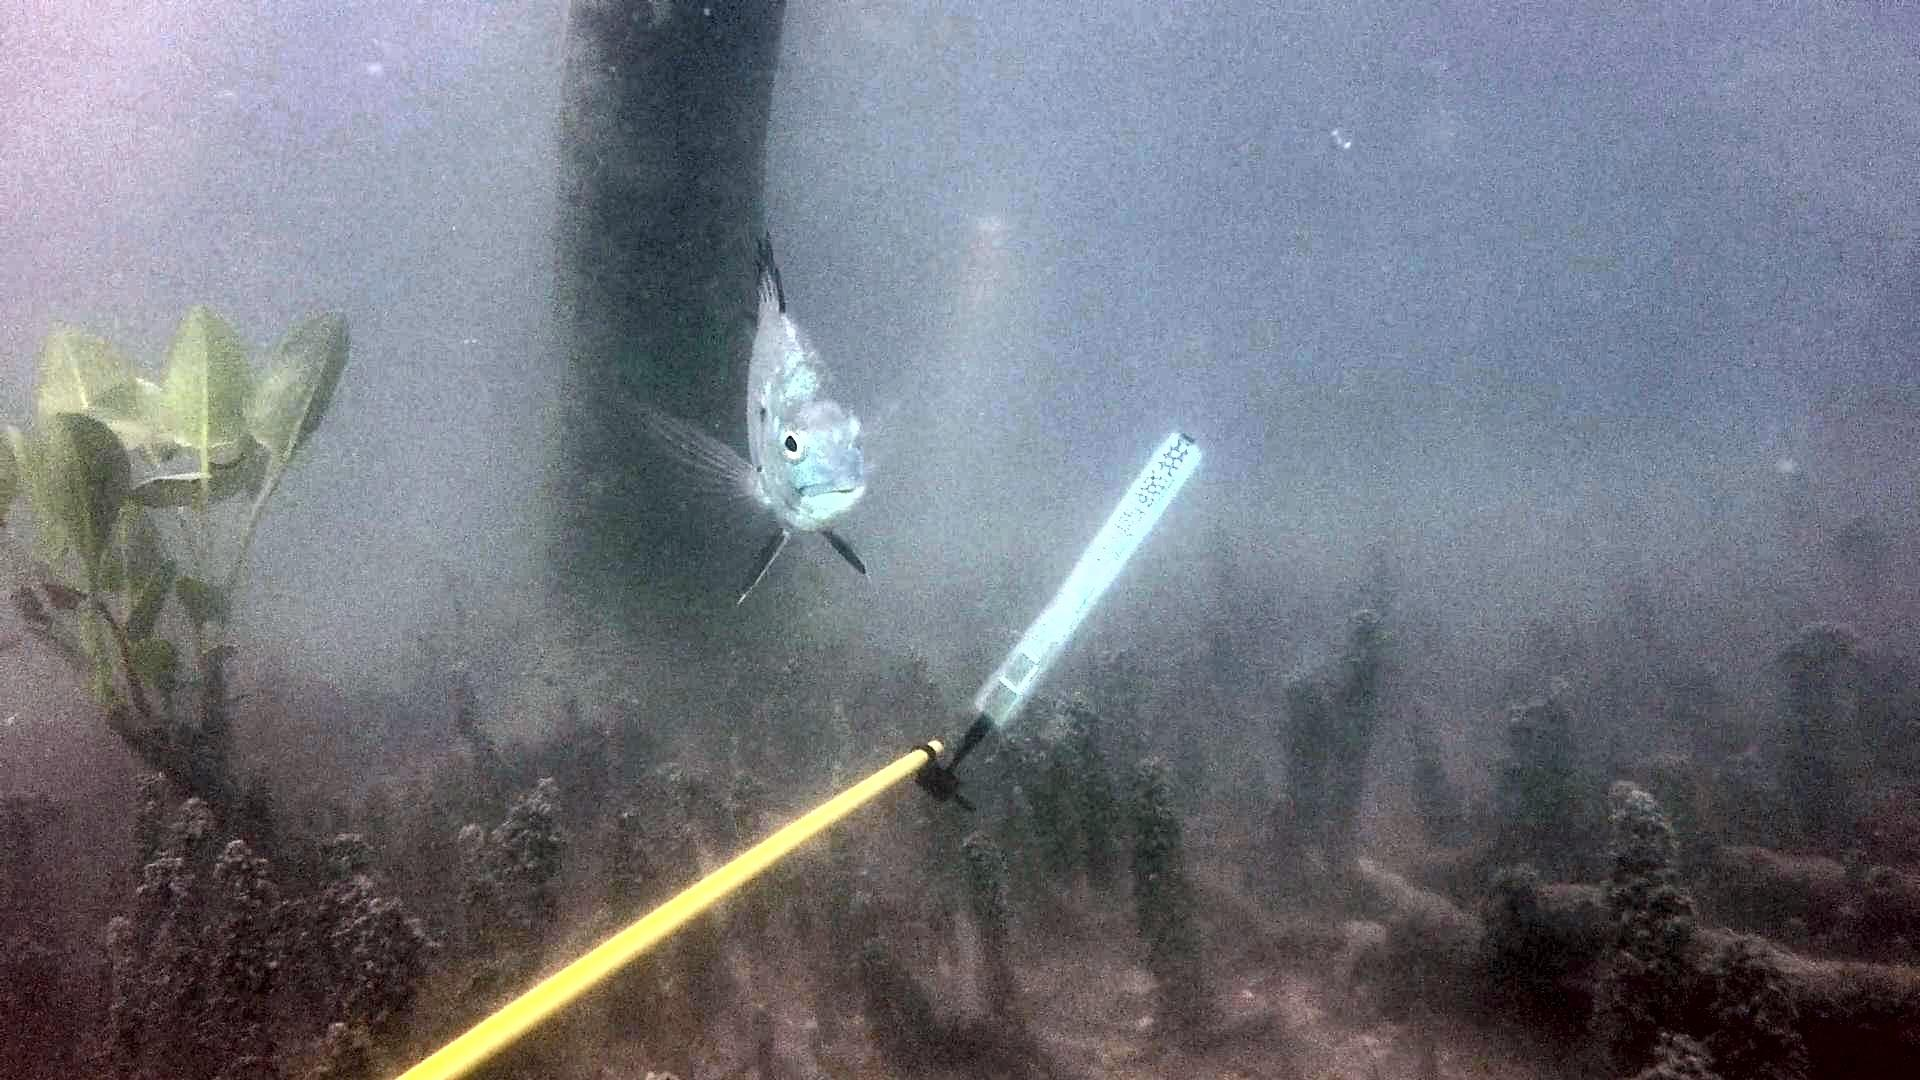acanthopagrus palmaris: (608, 218, 967, 613)
